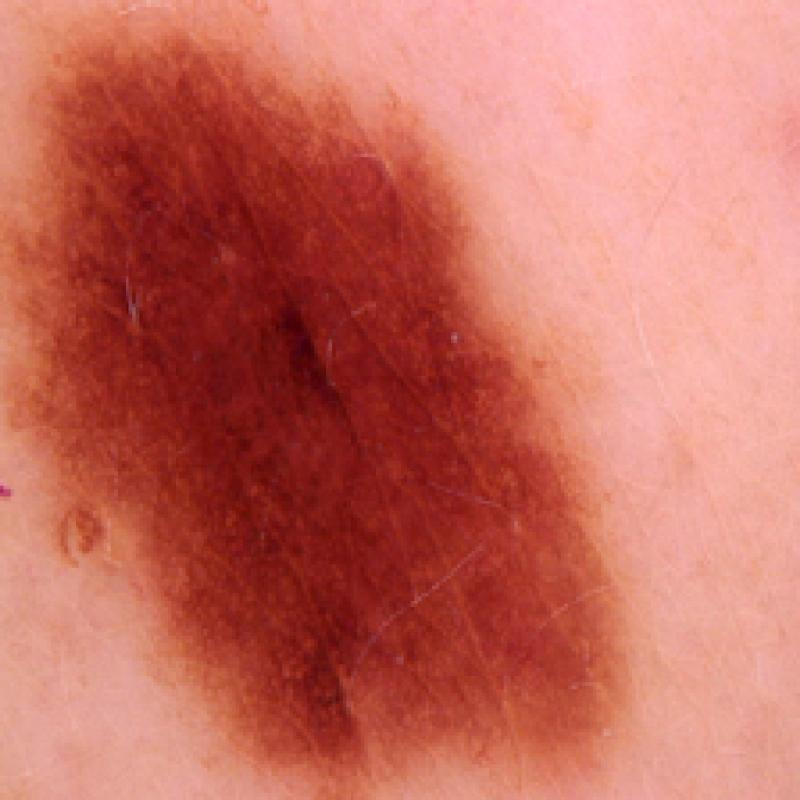benign: (0, 2, 669, 800)
